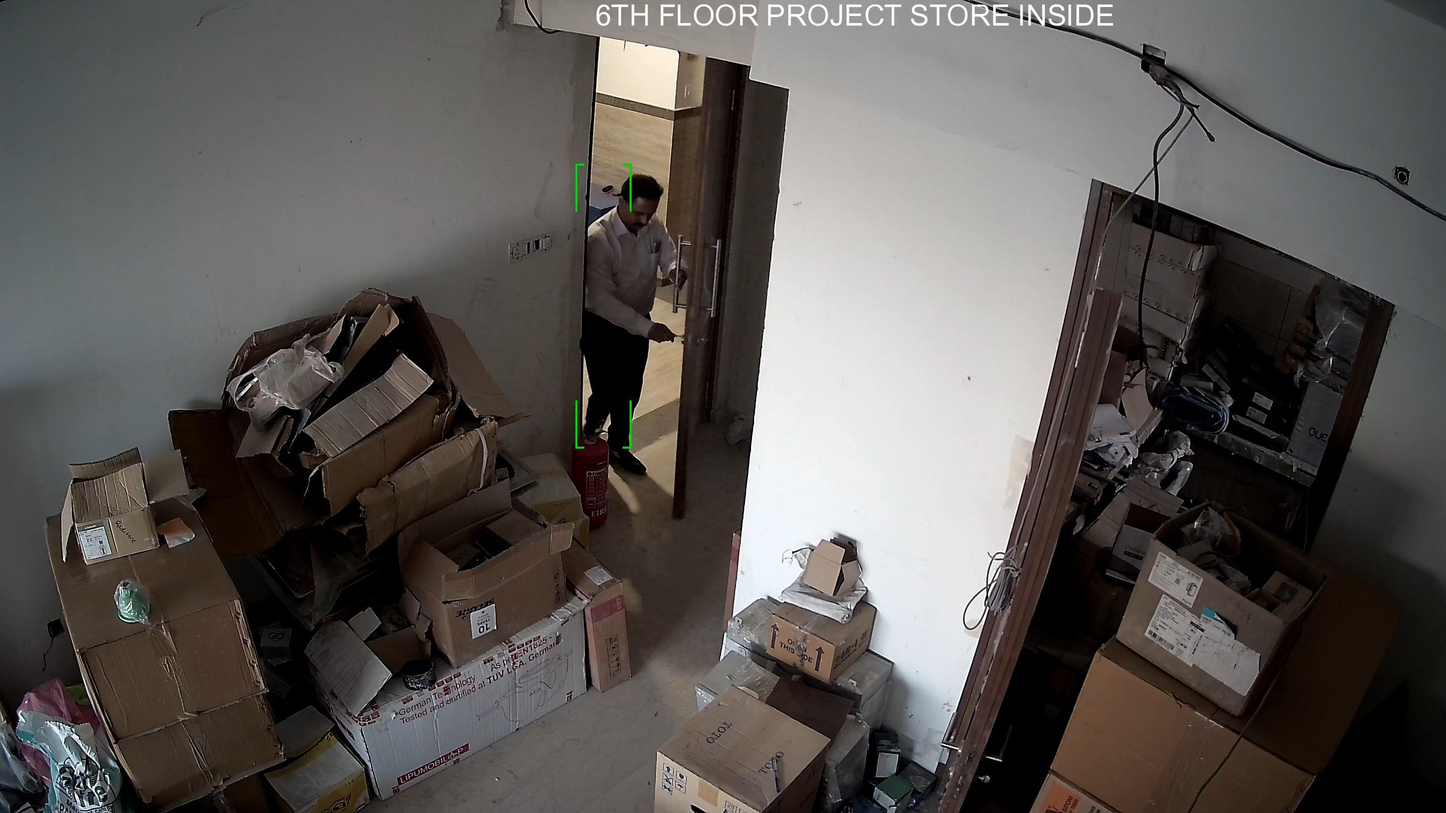Door-Open: (560, 51, 760, 526)
